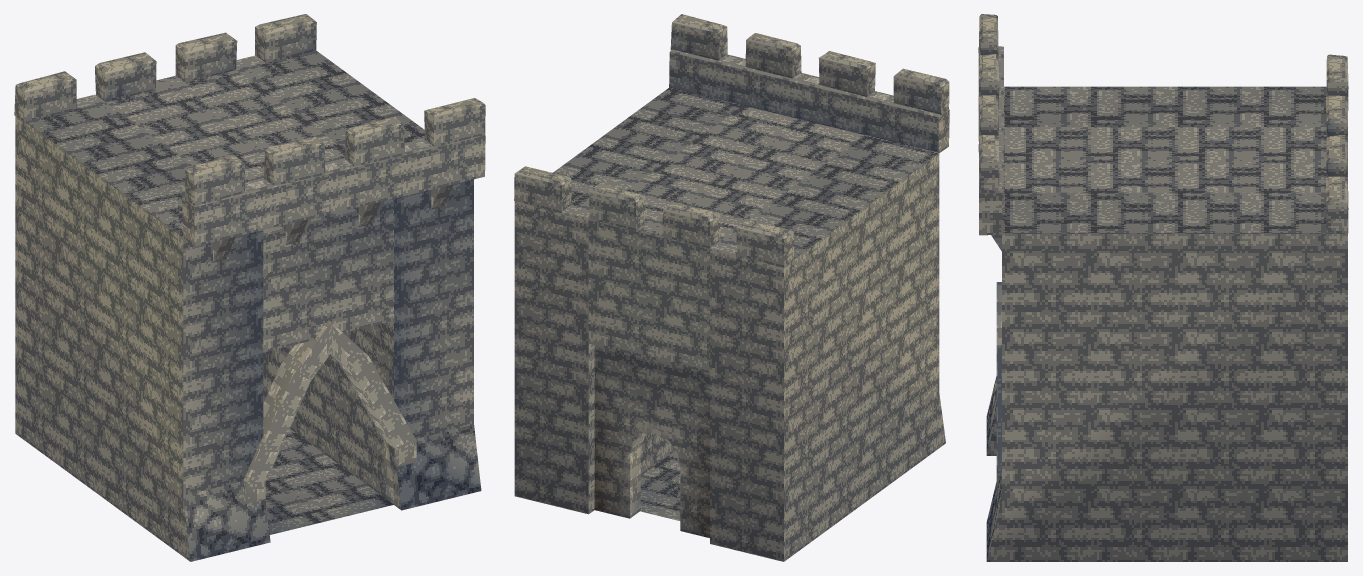
Rendered from cst.gatehouse__deep.glb.
3 renders of one model, left to right at view 1: azimuth 30°, elevation 25°; view 2: azimuth 150°, elevation 25°; view 3: azimuth 270°, elevation 25°, orthographic. The views are drawn at different scales.
Visible parts, largest first — view 1: kit_block, kit_top, kit_detail, kit_shell_passage_floor; view 2: kit_block, kit_top, kit_shell_passage_floor, kit_detail; view 3: kit_block, kit_top, kit_detail.
Part boxes in pixels (x1=…): kit_block: x1=15, y1=50, x2=481, y2=561; kit_top: x1=14, y1=14, x2=485, y2=246; kit_detail: x1=213, y1=184, x2=453, y2=505; kit_shell_passage_floor: x1=265, y1=428, x2=393, y2=534; kit_block: x1=514, y1=87, x2=945, y2=561; kit_top: x1=514, y1=14, x2=949, y2=267; kit_shell_passage_floor: x1=640, y1=451, x2=680, y2=520; kit_detail: x1=620, y1=422, x2=690, y2=529; kit_block: x1=986, y1=86, x2=1347, y2=561; kit_top: x1=978, y1=14, x2=1348, y2=235; kit_detail: x1=991, y1=235, x2=1001, y2=489.
Size of the model in its own units: 8.04 by 10.3 by 8.56.
Materials: 5 (5 with a texture image).
